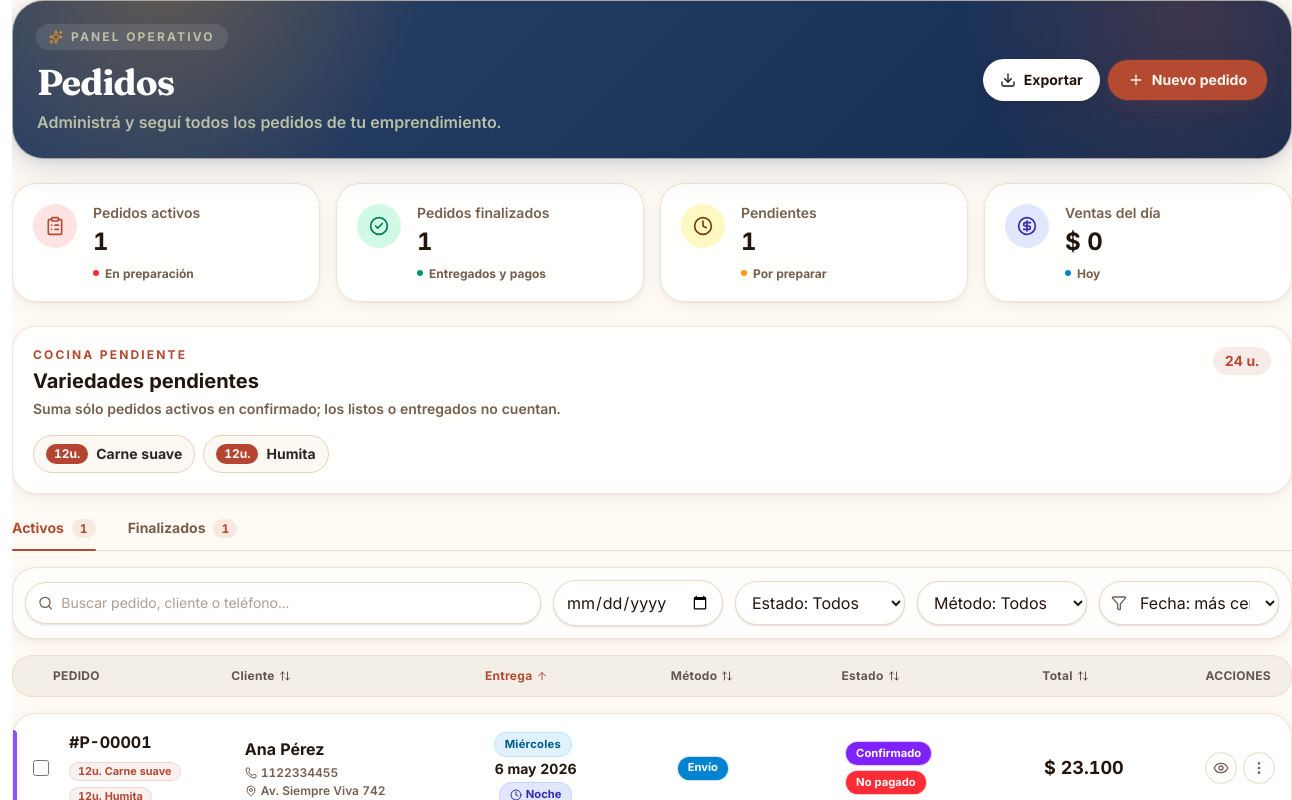
OrdersPage › shows active orders by default, finalized orders by filter, and formats order preview for Argentina
Check: the text "Miércoles" is shown, box [495,733,571,756]
Check: the text "6 may 2026" is shown, box [495,760,576,777]
Click the button "Finalizados1" at [182, 534], box [128,518,237,550]
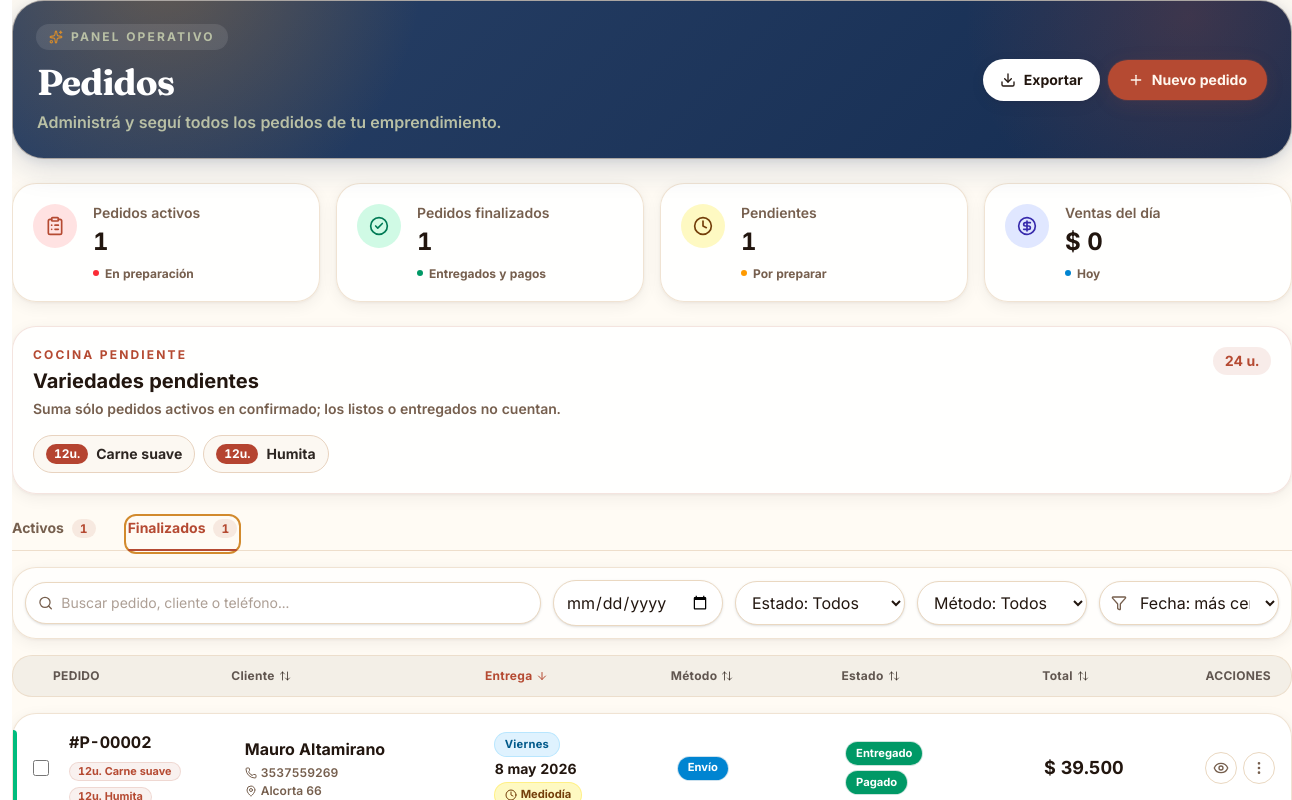
Check: the text "Viernes" is shown, box [495,733,559,756]
Check: the text "8 may 2026" is shown, box [495,760,576,777]
Check: the text "3537559269" is shown, box [245,765,338,780]
